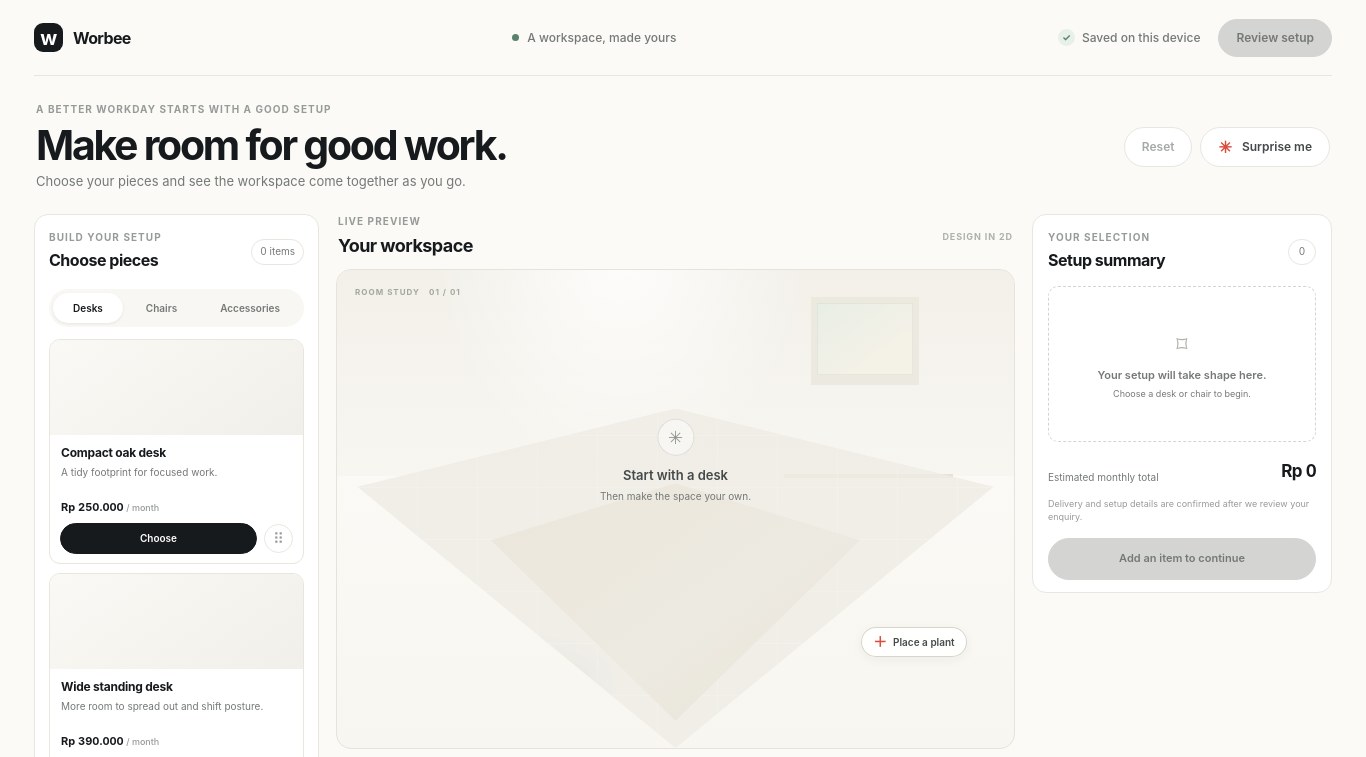
it: WorkspaceBuilder › updates the preview and summary as items are chosen, then supports reset and undo
This screenshot has width=1366, height=757.
expect the element "Compact oak desk" is shown: met, box left=49, top=339, right=304, bottom=564
Step 1. Click the button "Choose" below "Rp 250.000" → (158, 538), box left=60, top=523, right=257, bottom=554
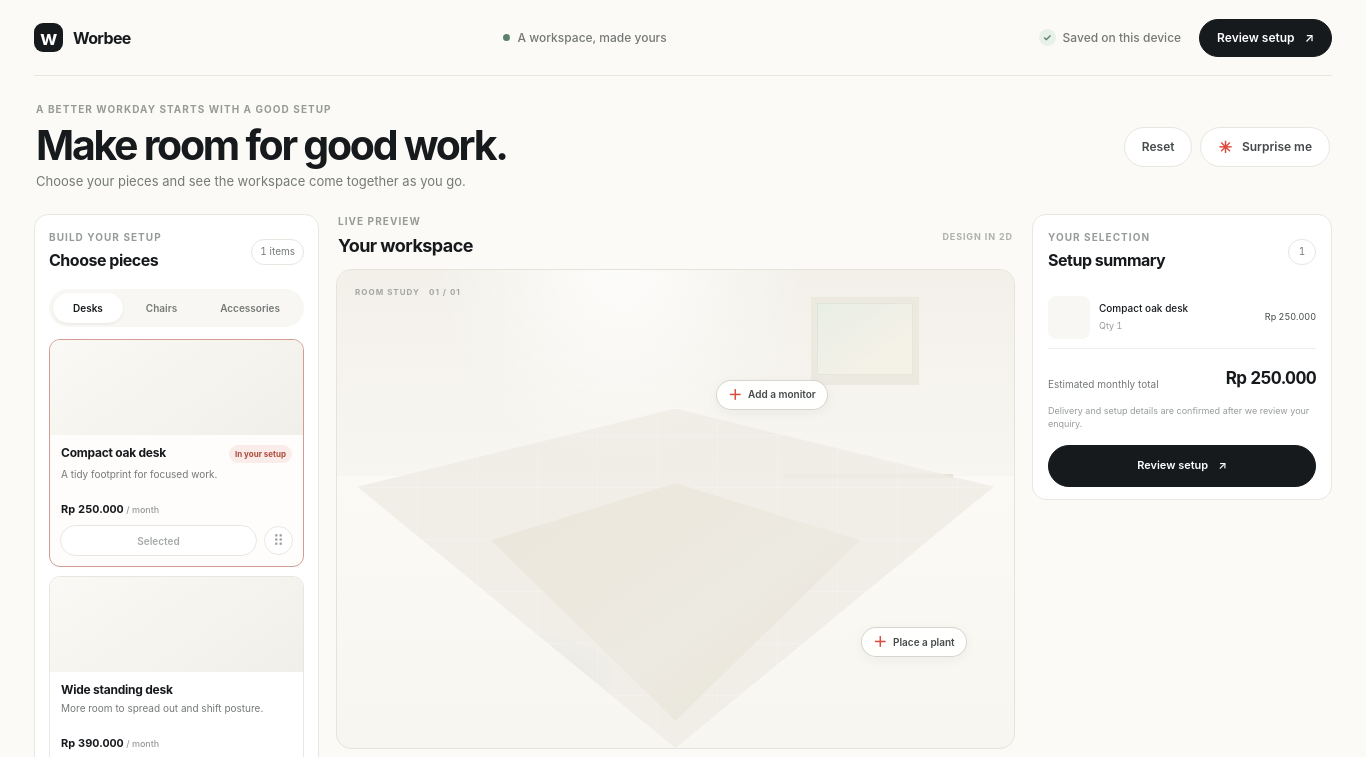
expect the button named "Select Compact oak desk" is shown: met, box left=529, top=340, right=822, bottom=582
Step 2. Click the button "Reset" → (1158, 147), box left=1124, top=127, right=1192, bottom=167
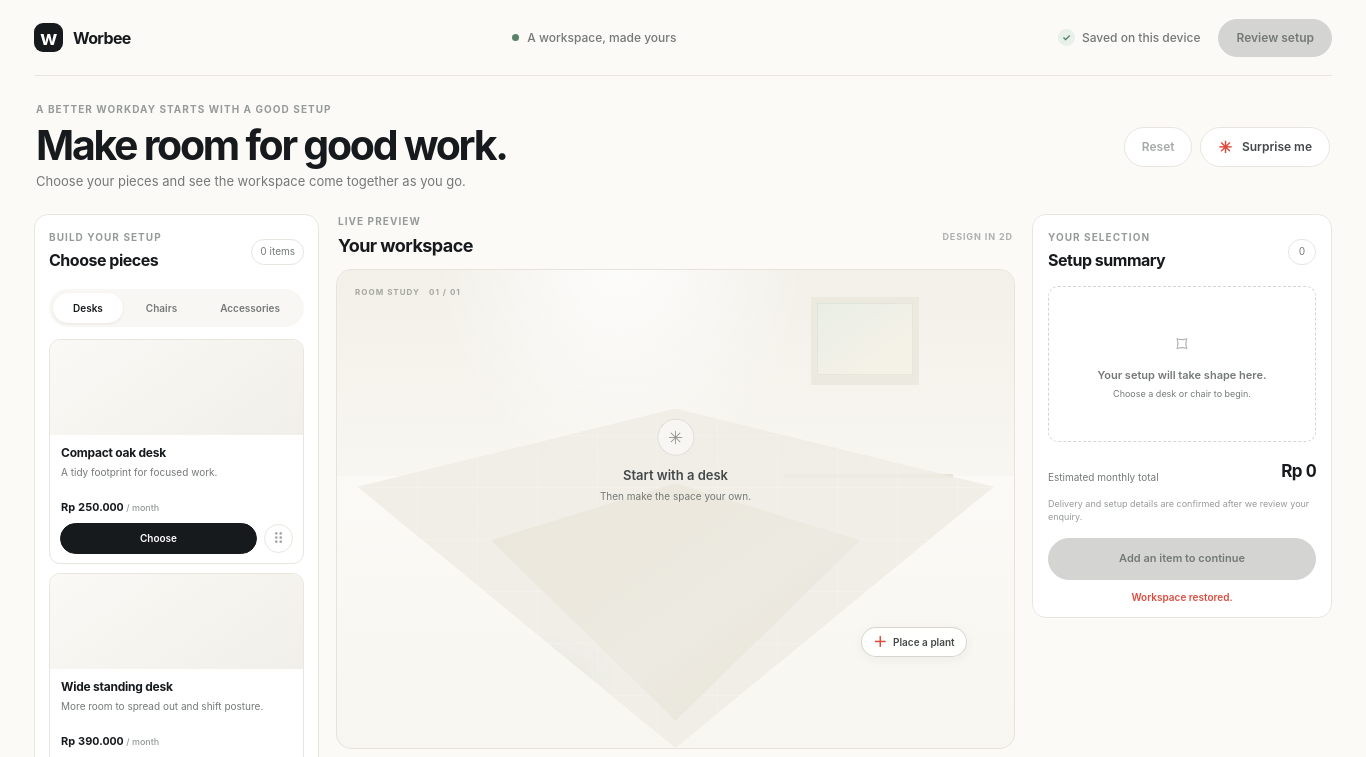
expect the button "Workspace restored." is shown: met
Step 3. Click the button "Workspace restored." → (1182, 592), box left=1048, top=580, right=1316, bottom=604
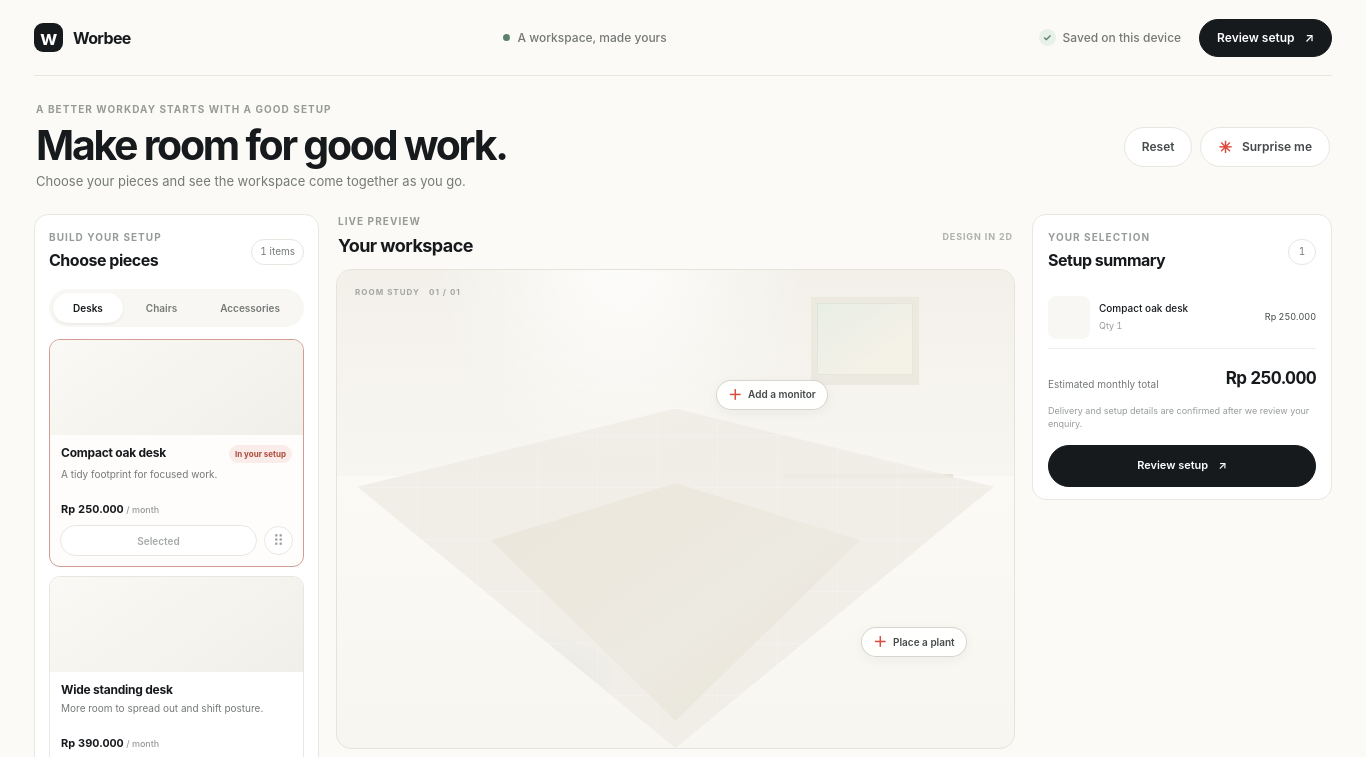
expect the button named "Select Compact oak desk" is shown: met, box left=529, top=340, right=822, bottom=582
